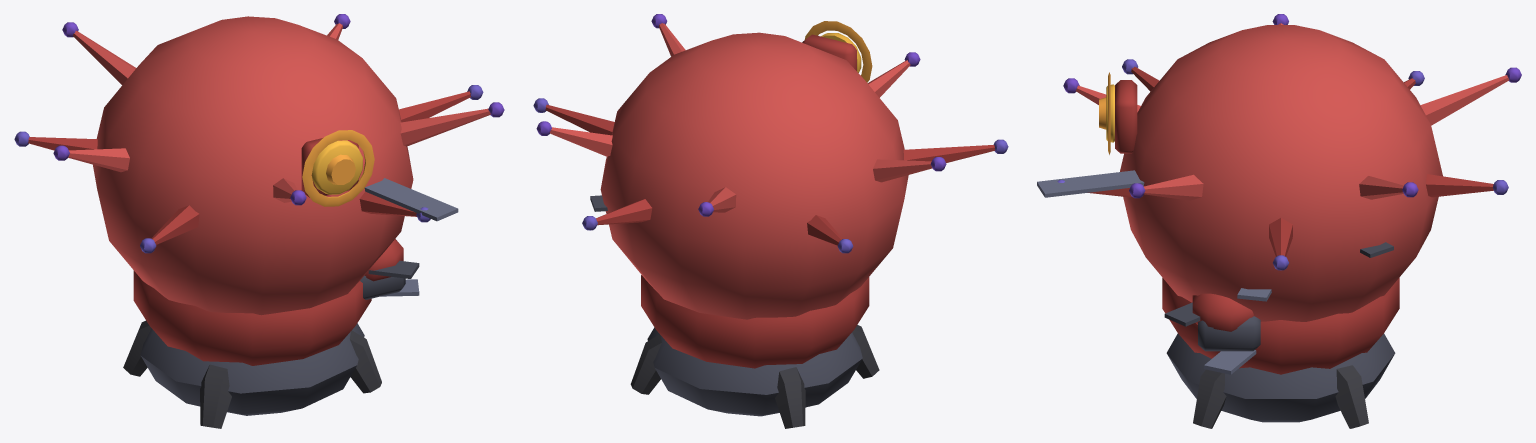
Rendered from brine_urchin.glb.
3 renders of one model, left to right at view 1: azimuth 30°, elevation 25°; view 2: azimuth 150°, elevation 25°; view 3: azimuth 270°, elevation 25°, orthographic. The views are drawn at different scales.
Parts seen in each view (by area): view 1: BrineUrchin; view 2: BrineUrchin; view 3: BrineUrchin.
Boxes of the visible parts, <box> form: BrineUrchin: <box>14,14,504,428</box>; BrineUrchin: <box>533,14,1008,428</box>; BrineUrchin: <box>1037,14,1521,428</box>.
Bounding box in the file's own units: 3.52 × 2.9 × 3.48.
1 material, 1 textured.
